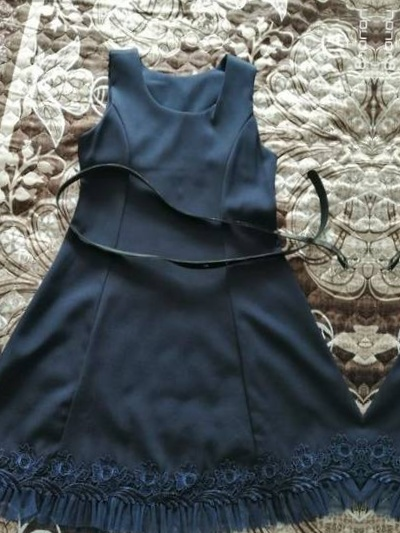Dress: (0, 34, 356, 533), (378, 48, 400, 533)
